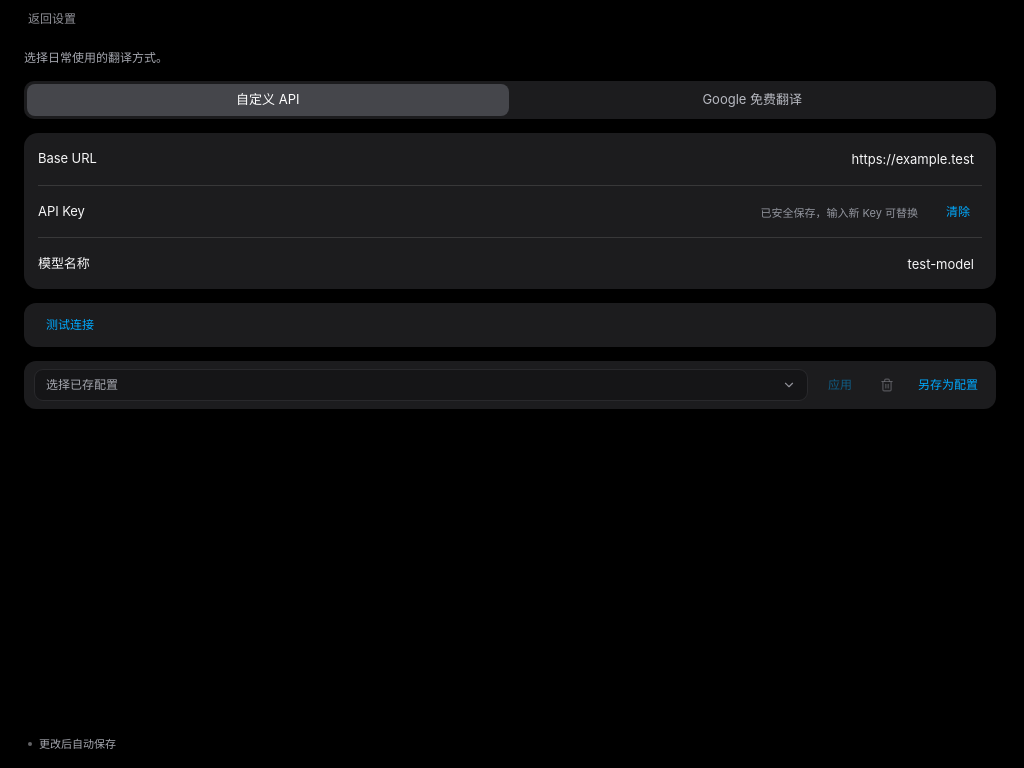
it: island settings › keeps an unsuccessful profile name available for retry
The width and height of the screenshot is (1024, 768).
Expected: the field labelled "配置名称" is not shown
Click the button "另存为配置" at x=948, y=385, box [910,370,986,400]
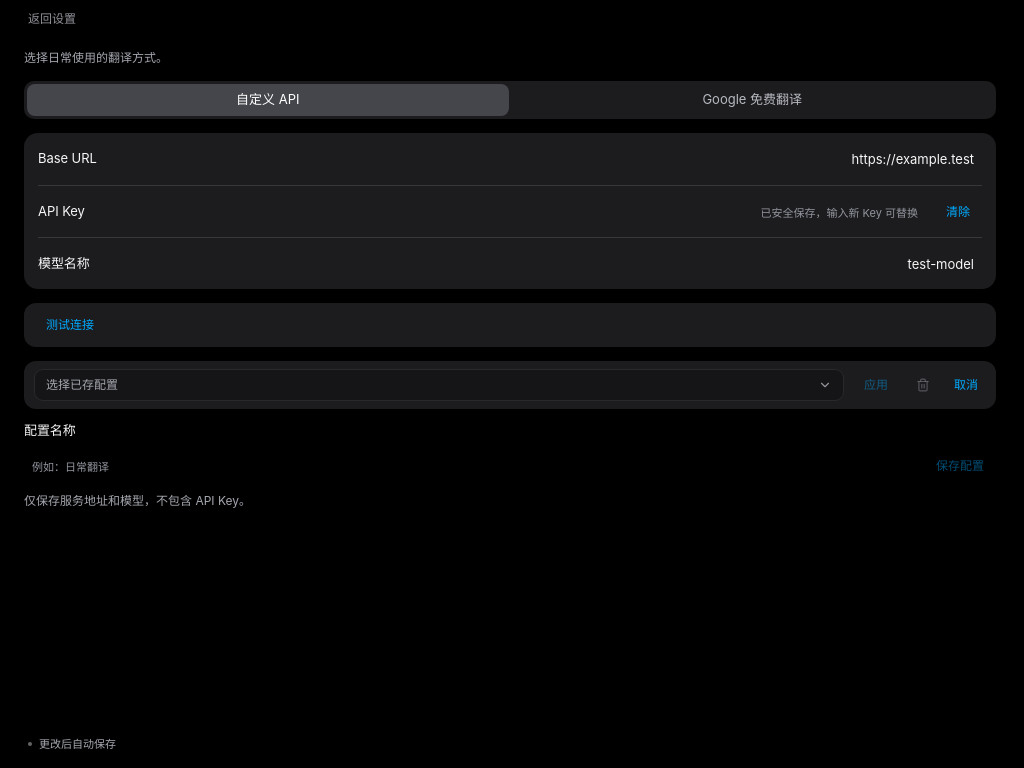
Type "工作" into the field labelled "配置名称" at x=470, y=466, box [24,449,916,483]
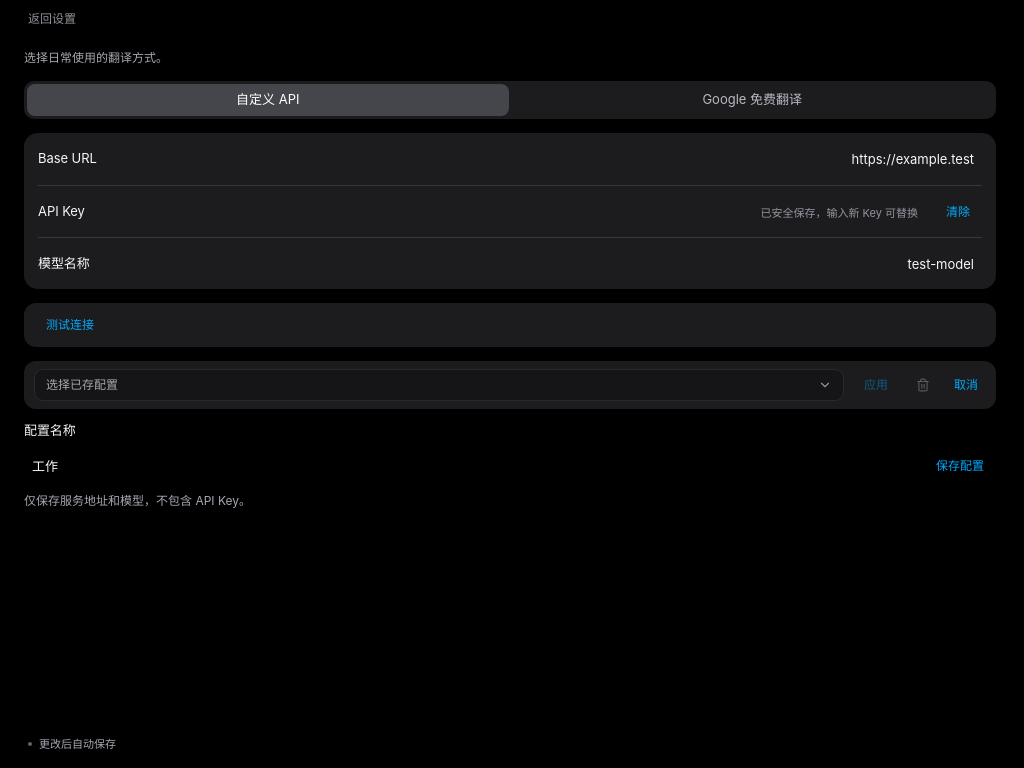
Click the button "保存配置" at x=960, y=466, box [924,449,996,483]
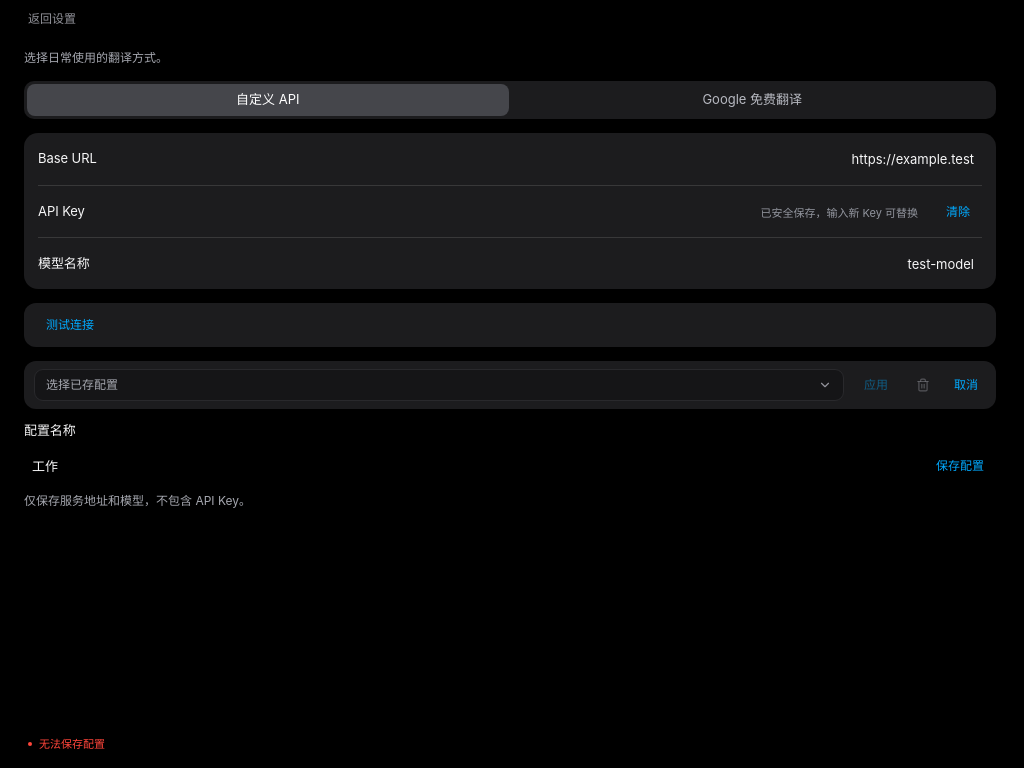
Expected: the text "无法保存配置" is shown, [39,736,105,752]
